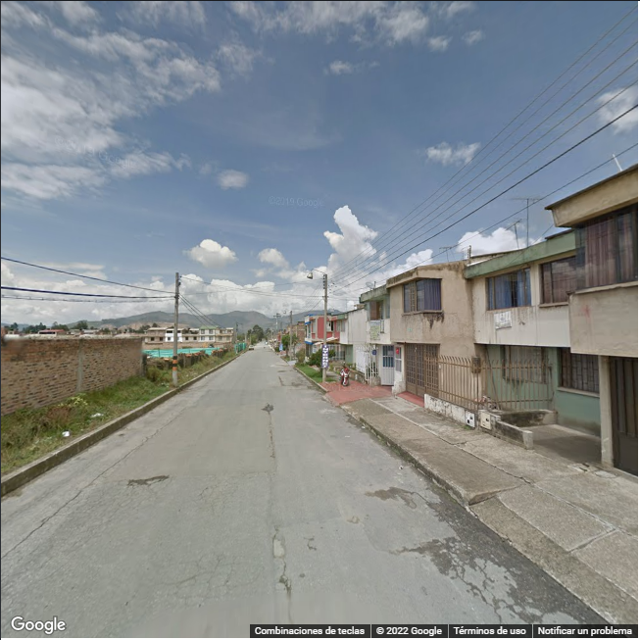D00: (2, 441, 140, 554), (445, 554, 489, 606), (279, 550, 295, 627)
D20: (173, 545, 238, 597)
